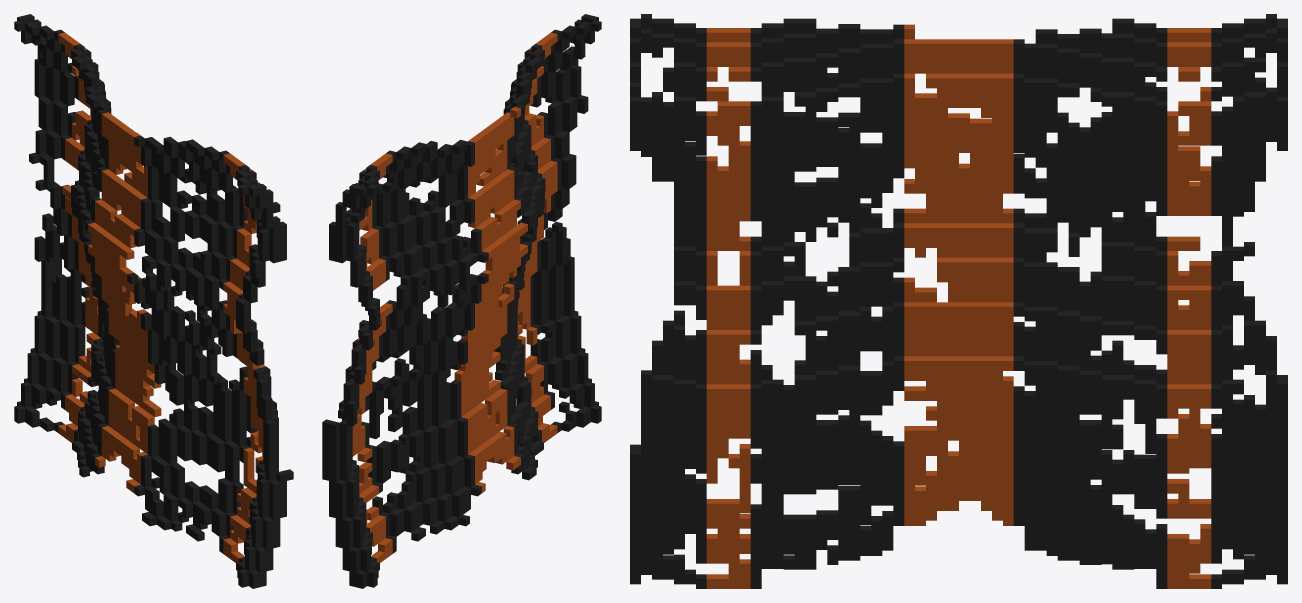
Rendered from enemyship-1.obj.
The picture shows the model from 3 angles, left to right: view 1: azimuth 30°, elevation 25°; view 2: azimuth 150°, elevation 25°; view 3: azimuth 270°, elevation 25°; orthographic projection. The views are drawn at different scales.
Size of the model in its own units: 1.1 by 5.6 by 6.
Materials: 1 (1 with a texture image).
